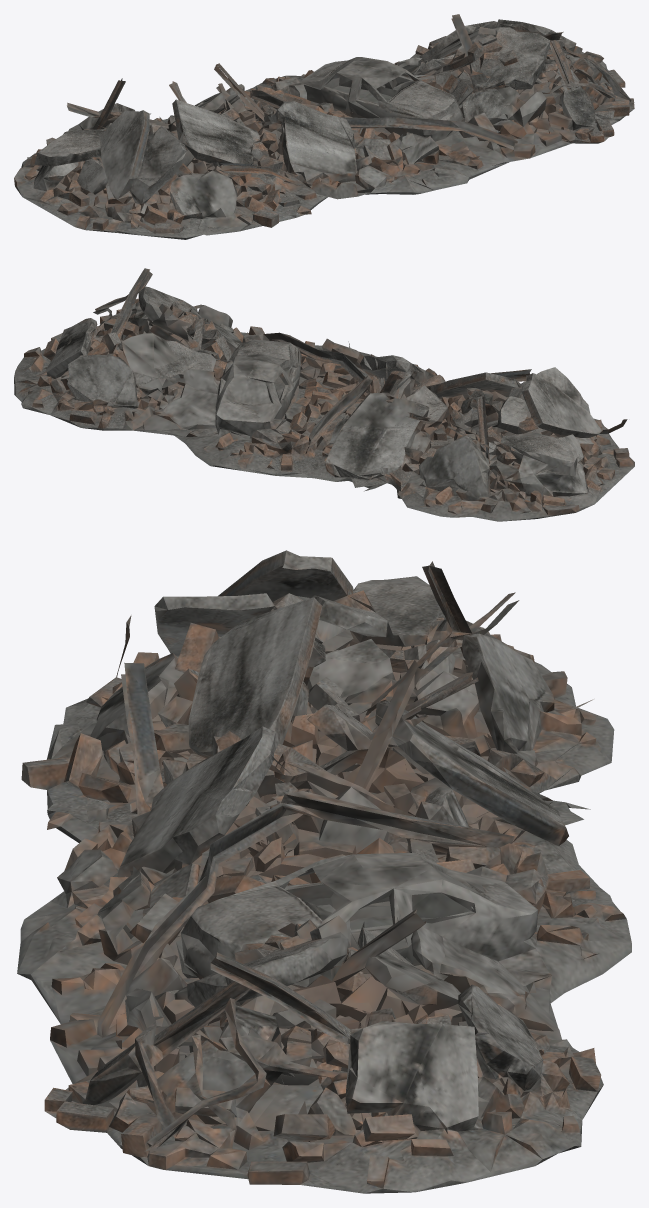
The model's file is city_rubble.glb.
3 views of the same model, one above another, from view 1: azimuth 30°, elevation 25°; view 2: azimuth 150°, elevation 25°; view 3: azimuth 270°, elevation 25° (orthographic). The views are drawn at different scales.
Visible parts, largest first — view 1: Mesh_0; view 2: Mesh_0; view 3: Mesh_0.
Part boxes in pixels (left/top/right/bottom): Mesh_0: left=14, top=14, right=634, bottom=239; Mesh_0: left=14, top=268, right=634, bottom=521; Mesh_0: left=17, top=550, right=631, bottom=1193.
Bounding box in the file's own units: 1.86 × 0.2701 × 0.8615.
Materials: 1 (1 with a texture image).
